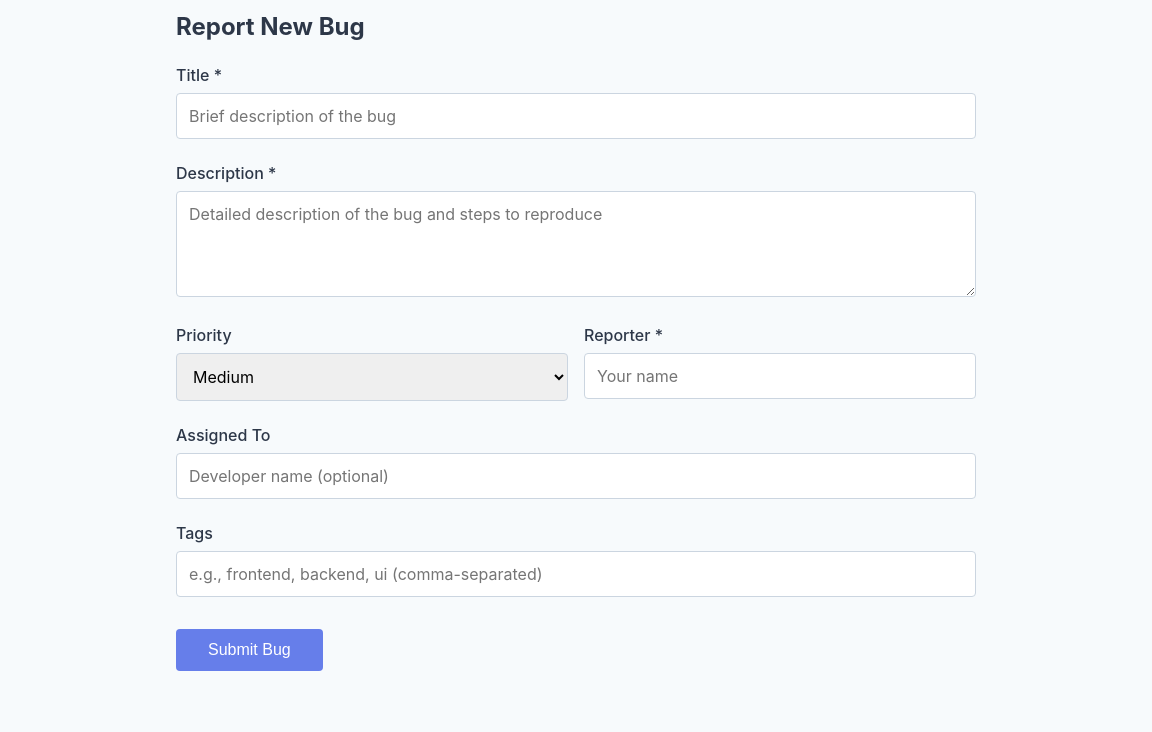
it: BugForm Component › shows validation error when description is too short
The image size is (1152, 732).
Type "Short" into the text box labelled "Description *" at (576, 244), box [176,191,976,297]
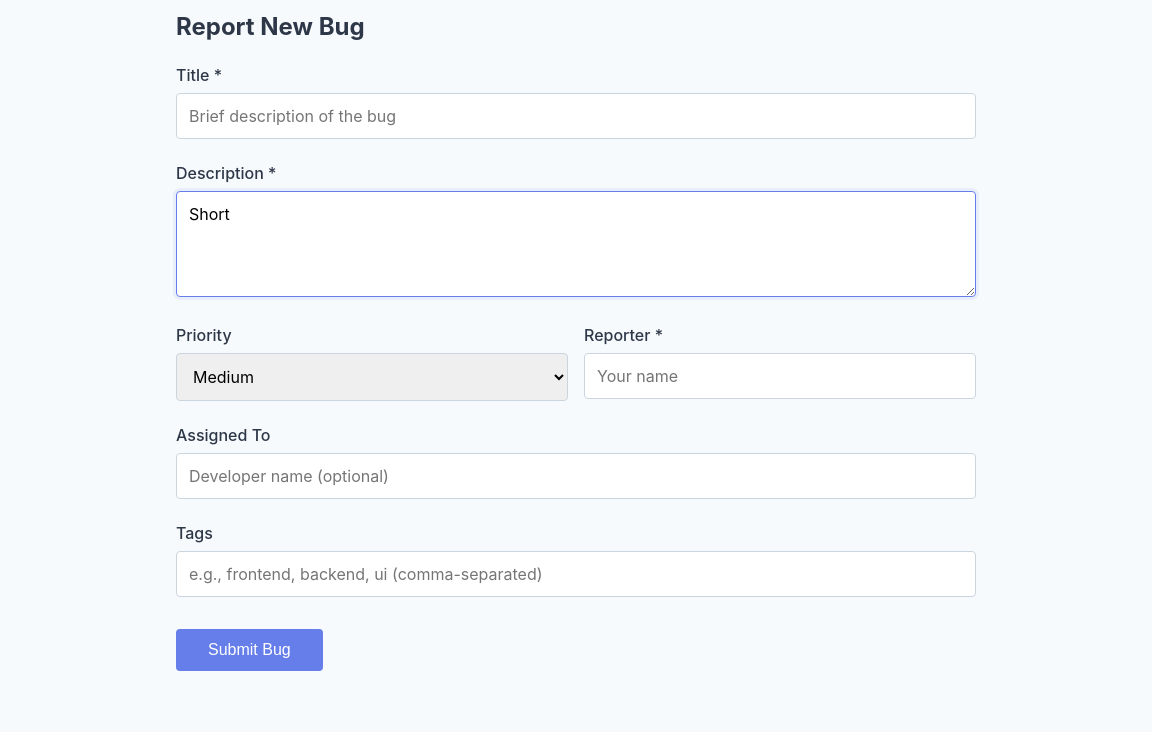
Click the button "Submit Bug" at (249, 650), box [176,629,323,671]
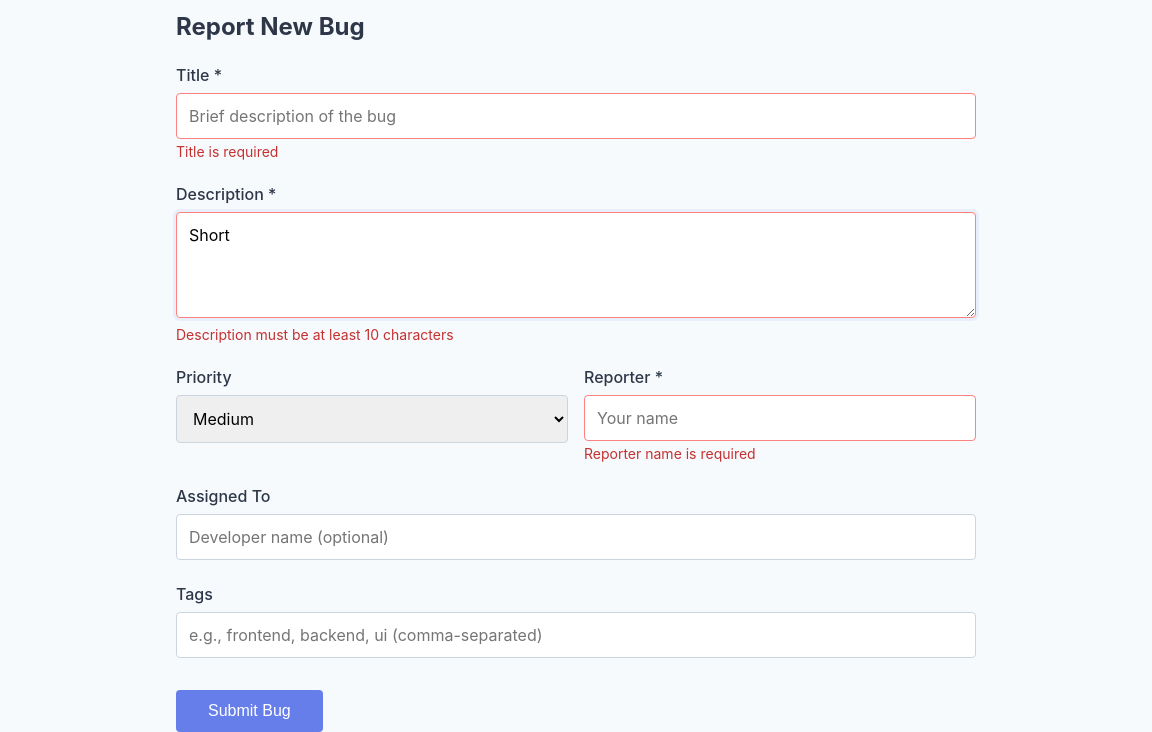
Result: the text "Description must be at least 10 characters" is shown at [176,326,454,343]
